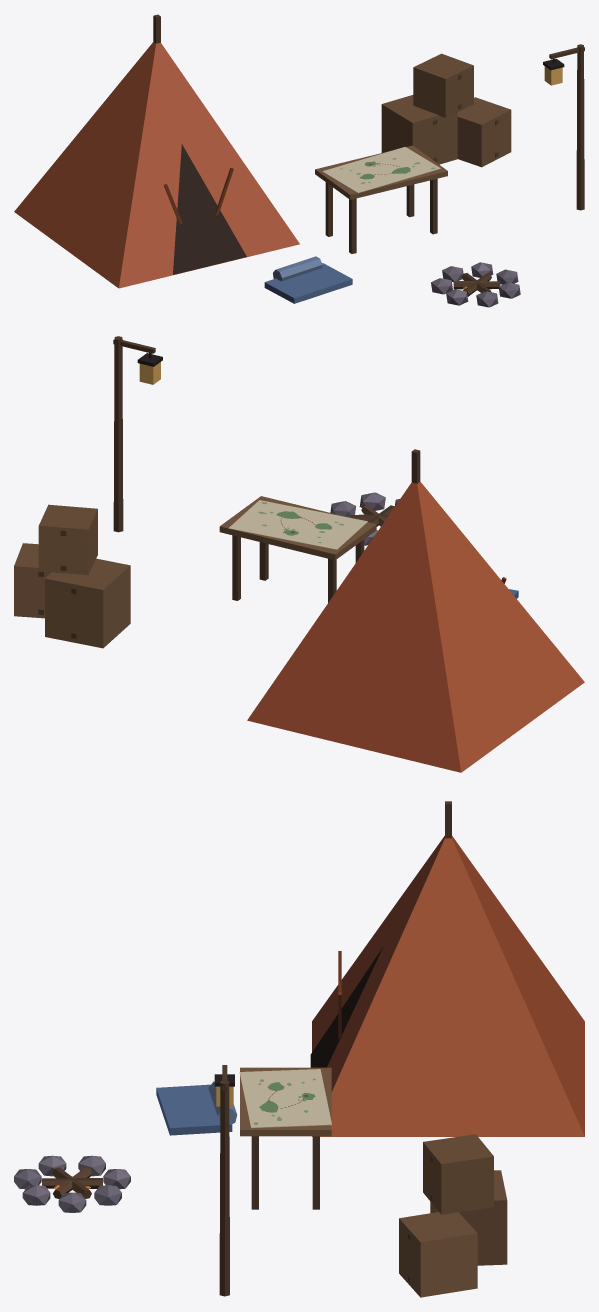
Rendered from Camp.fbx.
3 renders of one model, top to bottom at view 1: azimuth 30°, elevation 25°; view 2: azimuth 150°, elevation 25°; view 3: azimuth 270°, elevation 25°, orthographic. The views are drawn at different scales.
Visible parts, largest first — view 1: Camp; view 2: Camp; view 3: Camp.
Boxes of the visible parts, <box> form: Camp: <box>14,14,584,307</box>; Camp: <box>14,336,584,772</box>; Camp: <box>14,801,584,1297</box>.
Bounding box in the file's own units: 6.43 × 3.03 × 5.62.
